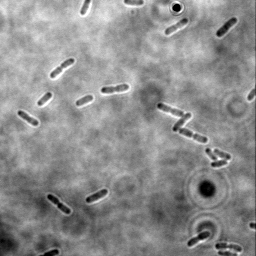Dividing: (48, 56, 76, 81), (44, 192, 73, 216), (177, 126, 210, 144), (163, 17, 189, 37), (156, 101, 186, 118), (16, 109, 41, 129), (186, 229, 212, 248), (100, 81, 131, 96), (214, 241, 244, 253)
Rod: (215, 16, 239, 39), (171, 111, 193, 133), (84, 187, 109, 205), (36, 90, 54, 108), (74, 93, 95, 108), (214, 148, 233, 161), (204, 146, 217, 163), (210, 159, 231, 169), (121, 1, 147, 9)
